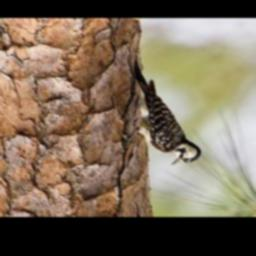Woodpecker: (122, 56, 203, 166)
